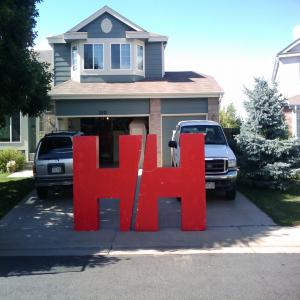Vehicle-registration-plate: (53, 167, 63, 174), (207, 184, 216, 190)
